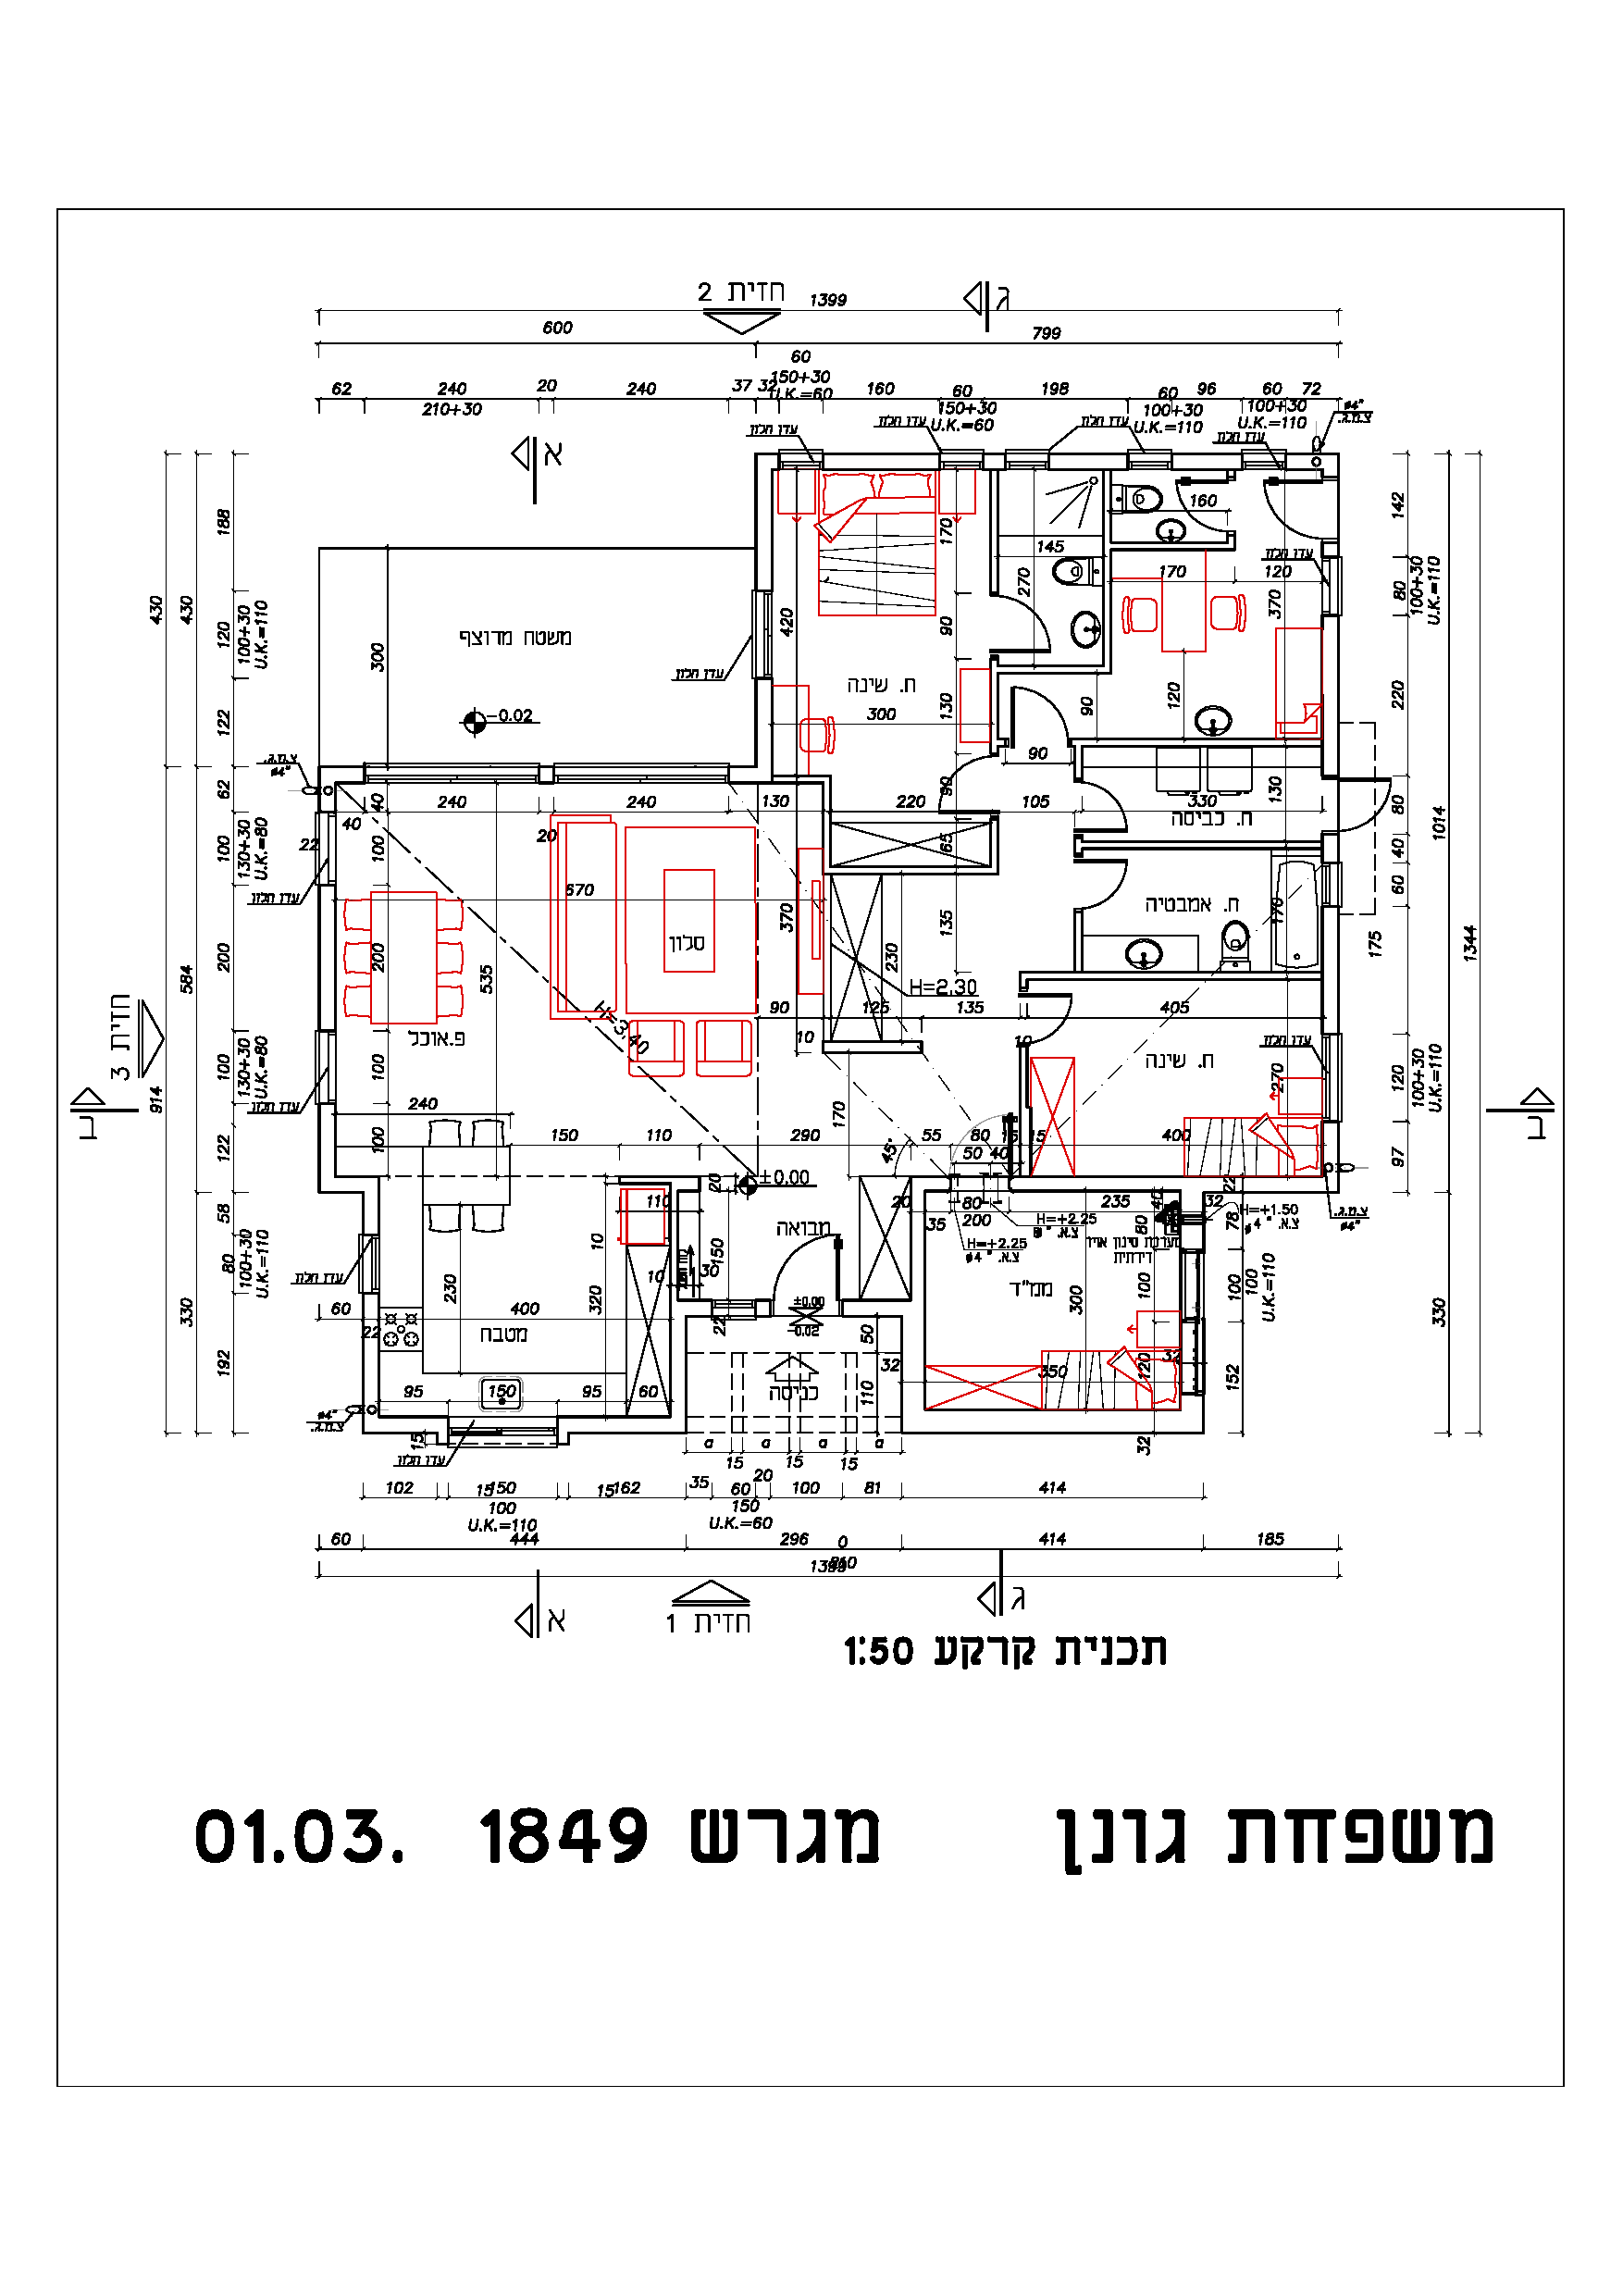door: (1006, 680, 1077, 736), (1089, 854, 1138, 922)
window: (552, 773, 729, 785), (371, 1235, 383, 1291), (1005, 460, 1049, 474), (938, 460, 982, 473), (1128, 460, 1172, 473), (1240, 460, 1284, 473), (780, 460, 824, 471)
